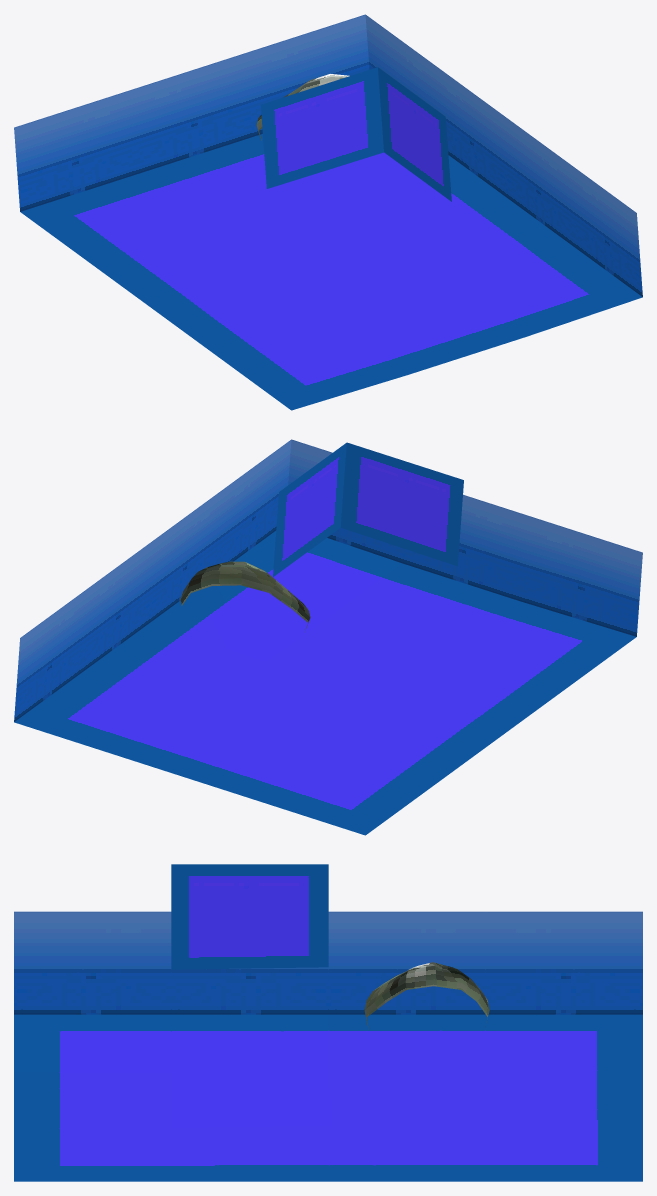
The model's file is ps2_save-icons_mercurymeltdownremix-profile.glb.
3 renders of one model, top to bottom at view 1: azimuth 30°, elevation 25°; view 2: azimuth 150°, elevation 25°; view 3: azimuth 270°, elevation 25°, orthographic. The views are drawn at different scales.
Parts seen in each view (by area): view 1: ps2mc0.ico; view 2: ps2mc0.ico; view 3: ps2mc0.ico.
Boxes of the visible parts, box(x1,y1,x2,y2) form: ps2mc0.ico: box(14, 14, 642, 410); ps2mc0.ico: box(14, 439, 642, 835); ps2mc0.ico: box(14, 864, 642, 1181).
Bounding box in the file's own units: 3.37 × 1.71 × 4.42.
1 material, 1 textured.
